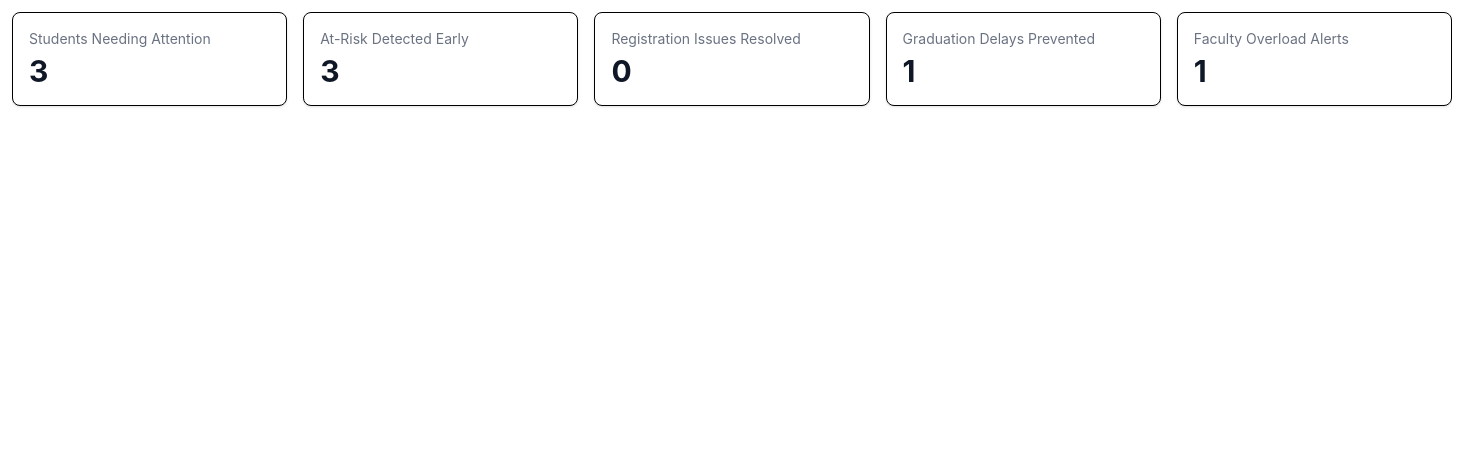
Scenario: KpiCards zero-count empty state › shows no empty message when the metric has rows
Step 1. Click the button "Students Needing Attention 3" → (120, 38), box [12, 12, 287, 106]
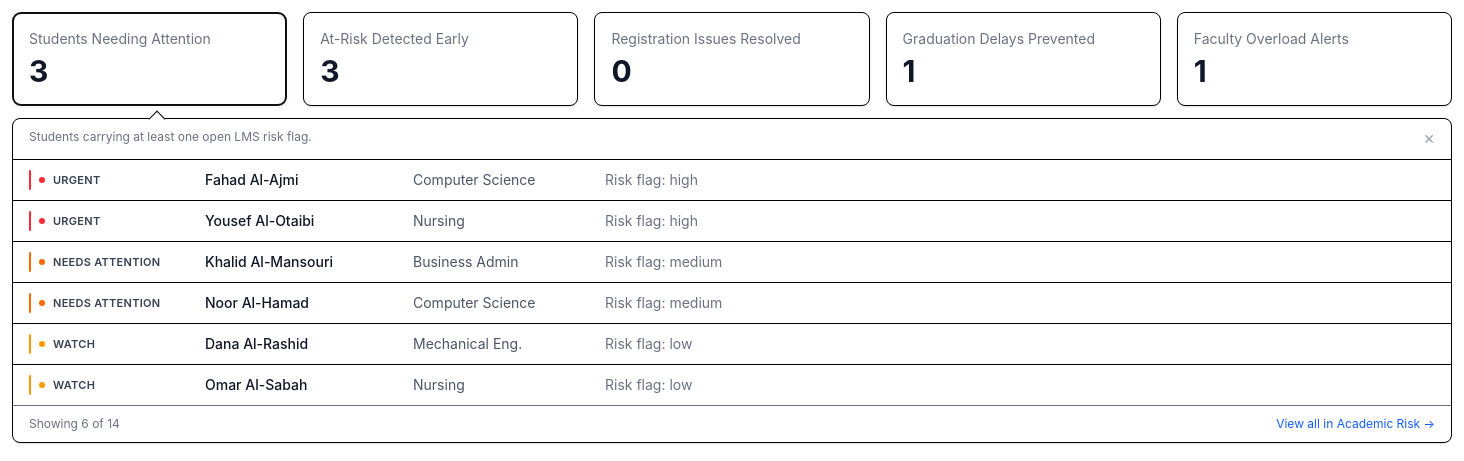
Check: the element with test id "drilldown-footer" shows "Showing 6 of 14", box [29, 416, 120, 431]
